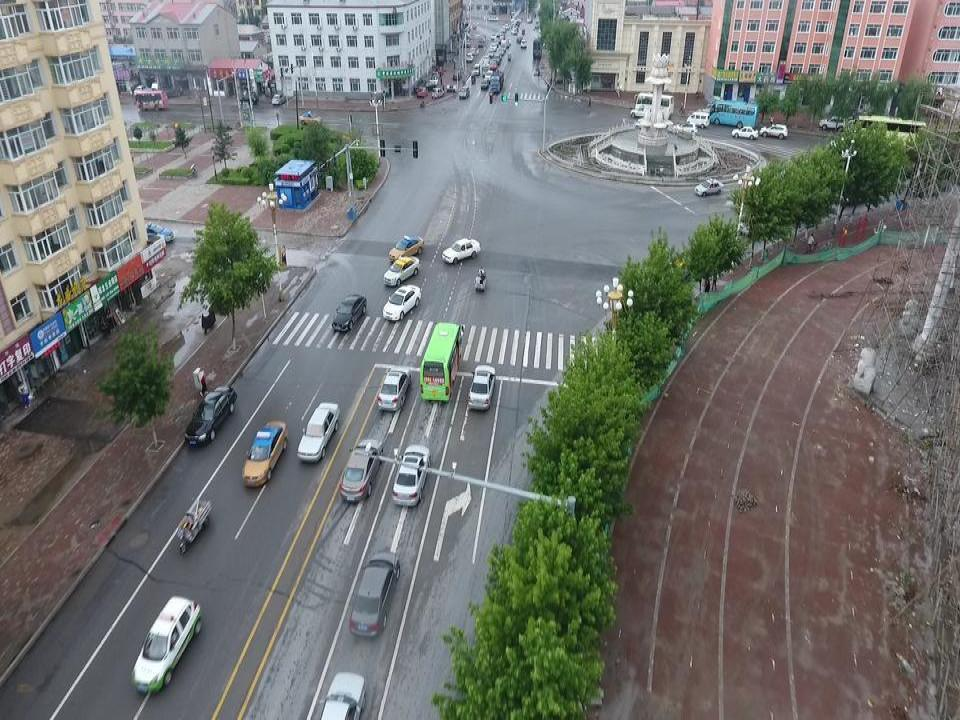bus: (419, 322, 462, 402), (856, 114, 927, 158), (707, 100, 756, 127), (635, 91, 674, 120), (135, 91, 169, 112)
car: (131, 598, 201, 694), (346, 552, 399, 635), (185, 384, 237, 448), (241, 420, 288, 488), (338, 440, 381, 501), (296, 401, 338, 460), (392, 443, 432, 504), (320, 672, 366, 720), (377, 368, 412, 409), (331, 292, 366, 332), (382, 284, 420, 320), (469, 365, 497, 408), (383, 255, 421, 285), (441, 238, 481, 266), (386, 235, 424, 261), (136, 222, 172, 246), (694, 177, 725, 196), (759, 122, 790, 138), (730, 125, 760, 140), (295, 110, 322, 126), (818, 116, 844, 131), (628, 105, 653, 119), (239, 91, 260, 106), (673, 120, 697, 133), (270, 92, 282, 107), (431, 87, 443, 100), (459, 85, 469, 100), (415, 86, 427, 98), (428, 74, 437, 86), (485, 69, 492, 83), (489, 60, 497, 71), (452, 71, 461, 80), (480, 79, 488, 89), (464, 53, 472, 63), (510, 16, 521, 23), (468, 47, 476, 56), (494, 52, 501, 61), (521, 39, 527, 49), (497, 27, 507, 33), (505, 38, 512, 46), (516, 35, 522, 44), (488, 16, 498, 21), (510, 28, 517, 35), (497, 47, 504, 54), (512, 24, 518, 32), (502, 23, 510, 29), (490, 32, 496, 40), (526, 16, 532, 23), (500, 43, 506, 50), (490, 43, 496, 50), (487, 50, 493, 57), (483, 55, 489, 61), (478, 41, 482, 48)
truck: (490, 70, 504, 94), (531, 37, 541, 59)
van: (685, 111, 711, 129), (472, 64, 479, 76), (481, 64, 488, 75), (534, 20, 539, 28)
